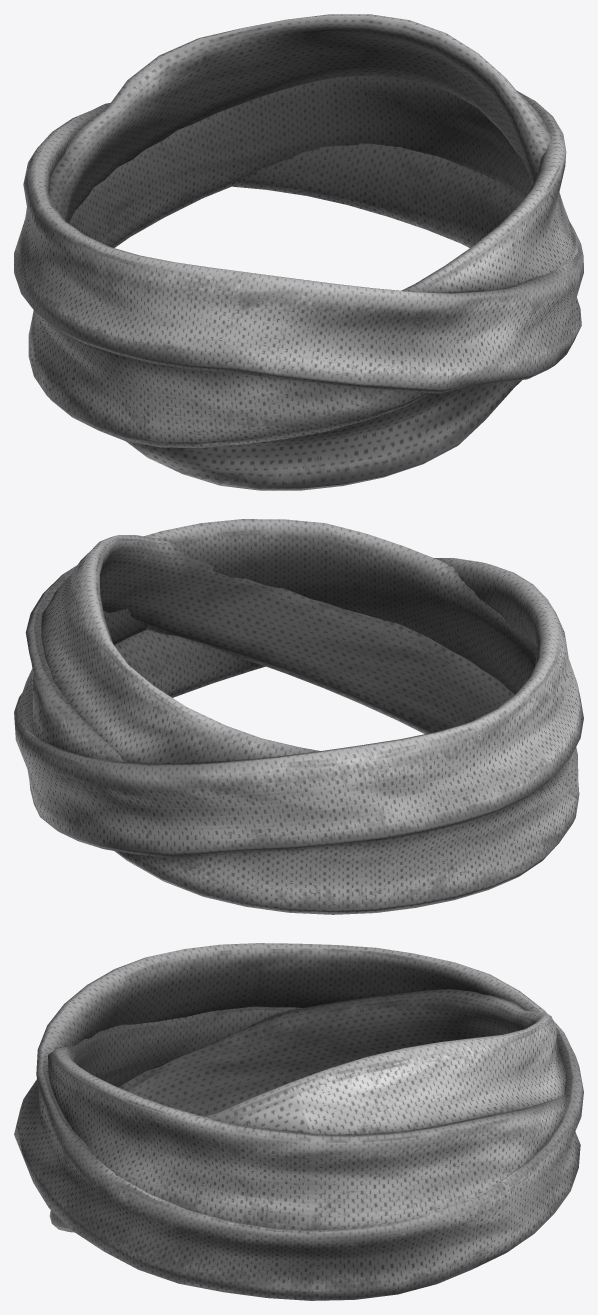
The picture shows the model from 3 angles, top to bottom: view 1: azimuth 30°, elevation 25°; view 2: azimuth 150°, elevation 25°; view 3: azimuth 270°, elevation 25°; orthographic projection. The views are drawn at different scales.
Visible parts, largest first — view 1: geometry_0; view 2: geometry_0; view 3: geometry_0.
Boxes of the visible parts, left/top/right/bottom form: geometry_0: left=14, top=14, right=583, bottom=490; geometry_0: left=14, top=519, right=583, bottom=914; geometry_0: left=14, top=943, right=583, bottom=1300.
Bounding box in the file's own units: 1.38 × 0.7474 × 1.45.
Materials: 1 (1 with a texture image).
